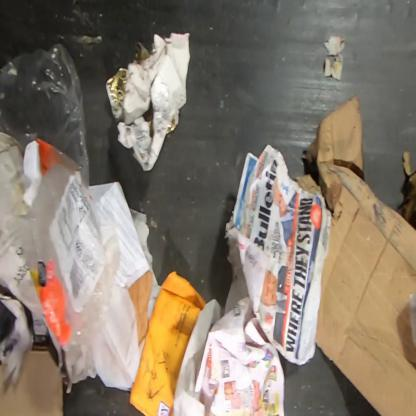cardboard: (296, 93, 415, 415), (0, 344, 65, 415), (397, 149, 415, 232)
soft_plastic: (0, 46, 125, 350)
